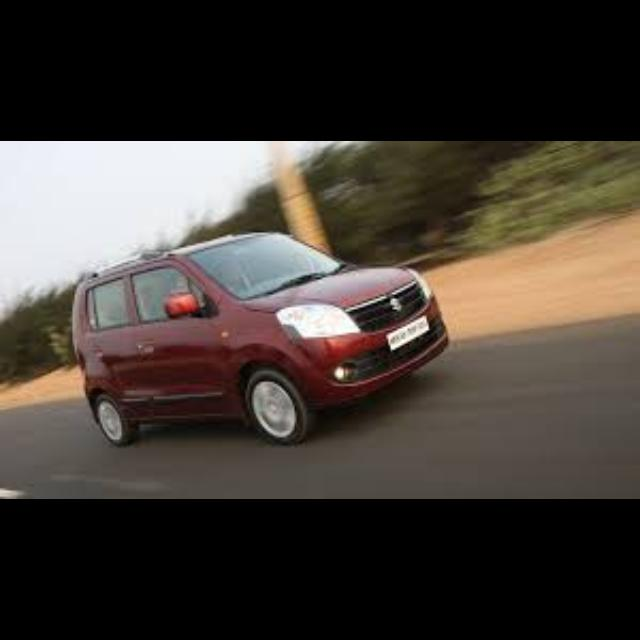number-plate: (384, 316, 427, 350)
vehicles: (64, 222, 446, 452)
